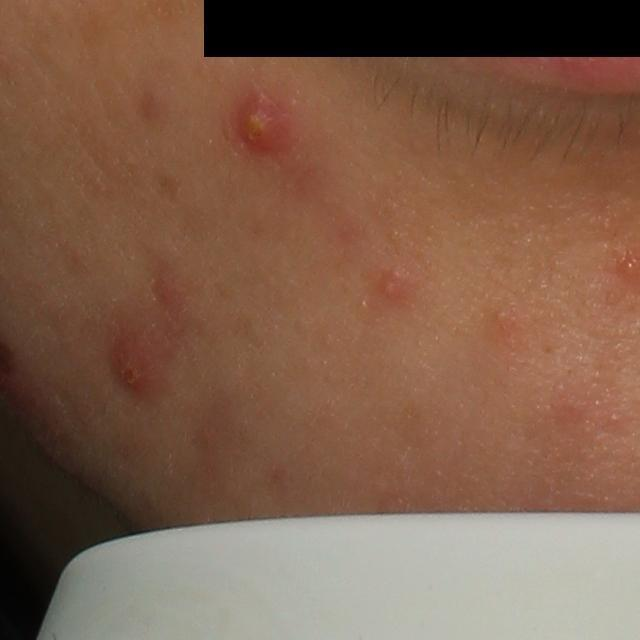papule: (377, 267, 408, 300)
pustule: (226, 83, 297, 157), (107, 329, 166, 404)
